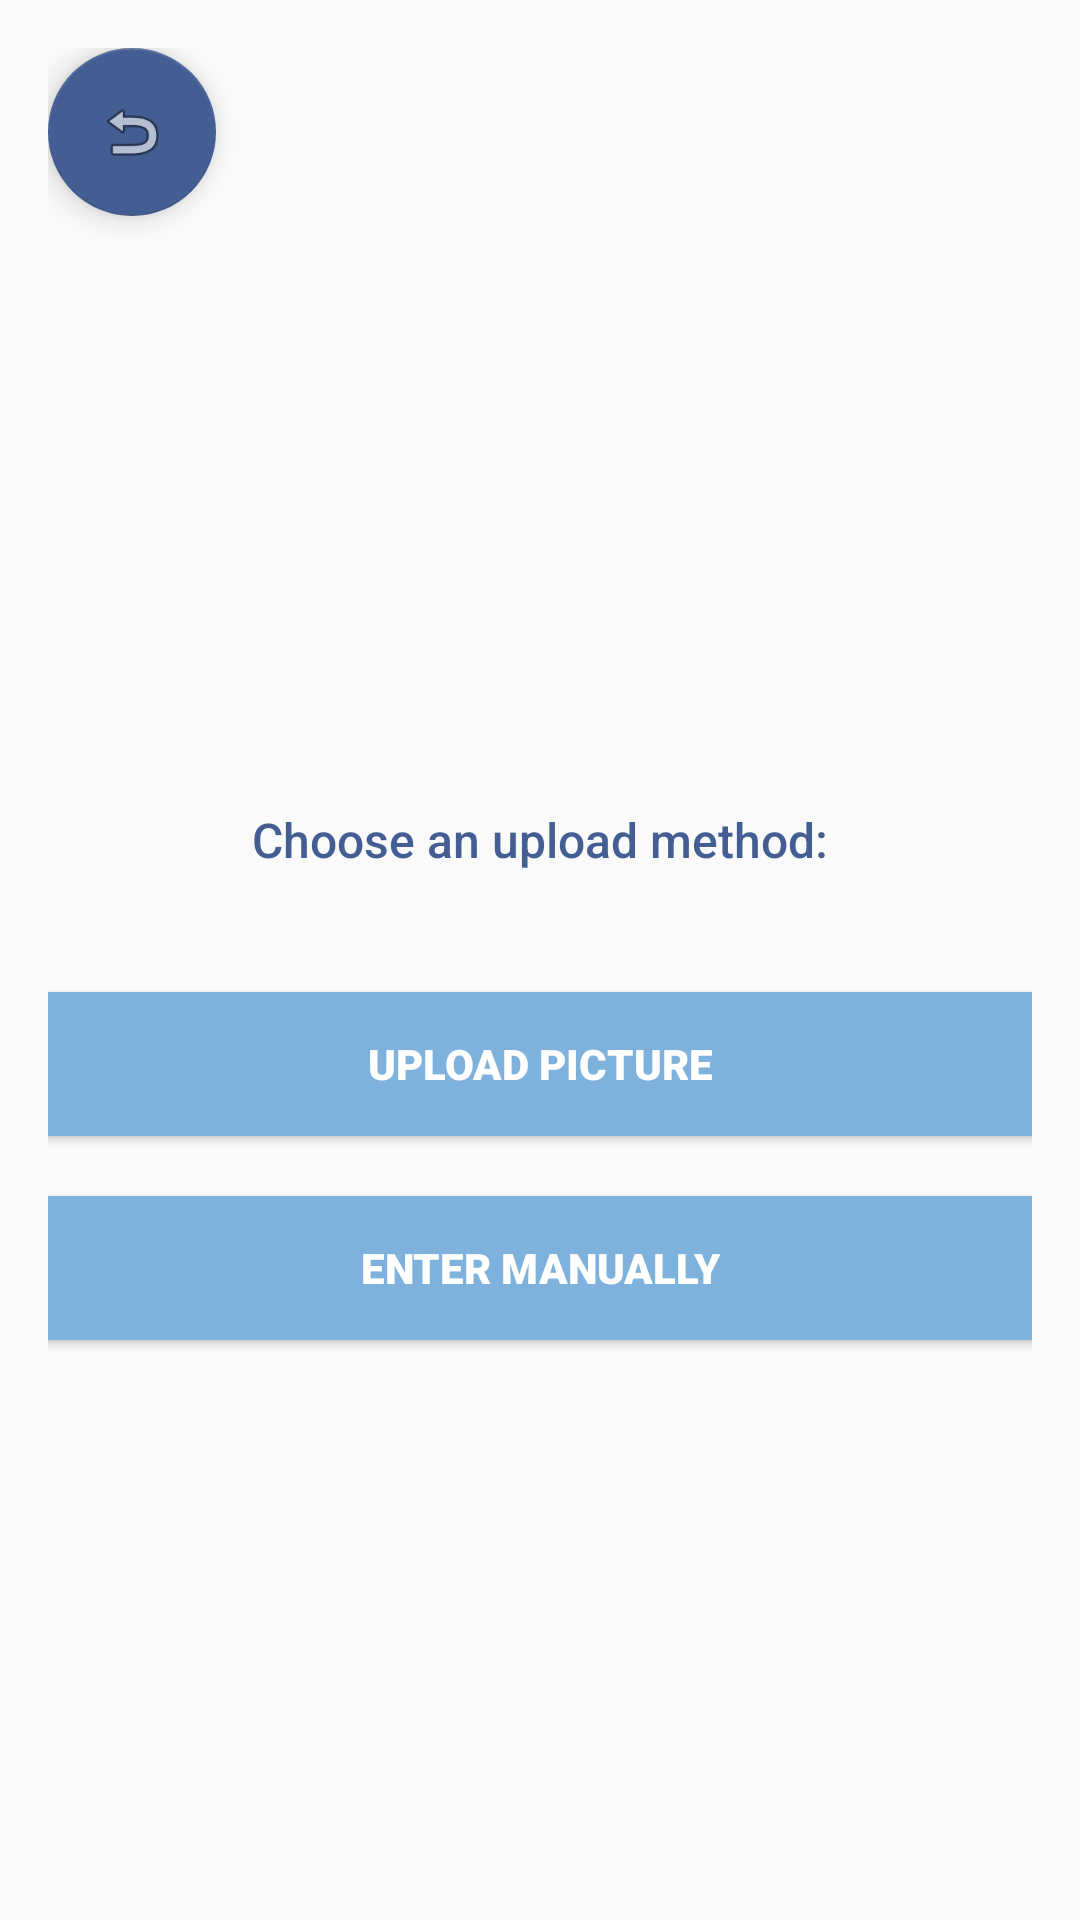

Named icons in this screenshot (1080px×1920px) and their bounding boxes, (x1, y1, x2, y2):
revert: (48, 48, 216, 216)
